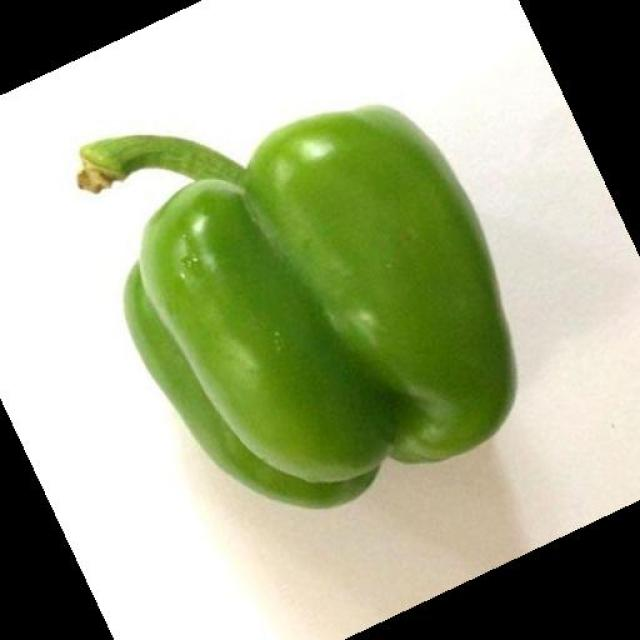Fresh_Capsicum: (80, 141, 586, 523)
